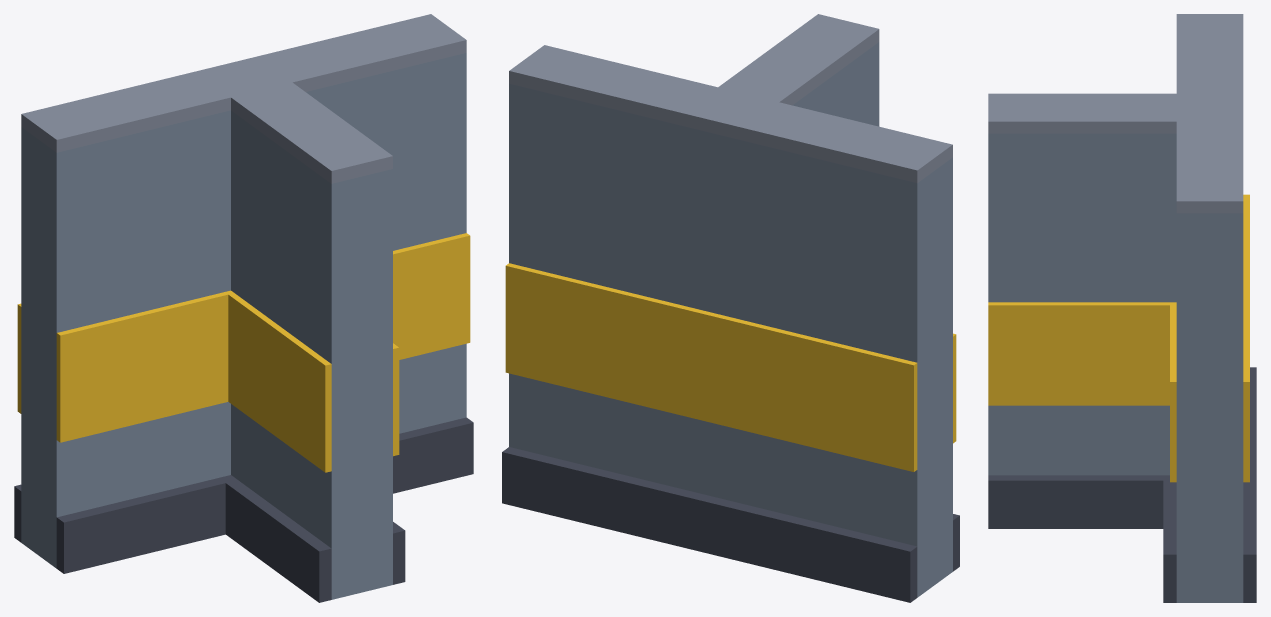
The model's file is partition-full-tee.glb.
3 renders of one model, left to right at view 1: azimuth 30°, elevation 25°; view 2: azimuth 150°, elevation 25°; view 3: azimuth 270°, elevation 25°, orthographic. The views are drawn at different scales.
Parts seen in each view (by area): view 1: partition-full-tee; view 2: partition-full-tee; view 3: partition-full-tee.
Part boxes in pixels (left/top/right/bottom): partition-full-tee: left=14, top=14, right=473, bottom=602; partition-full-tee: left=502, top=14, right=959, bottom=602; partition-full-tee: left=988, top=14, right=1256, bottom=602.
Bounding box in the file's own units: 1 × 1 × 0.605.
1 material, 1 textured.
